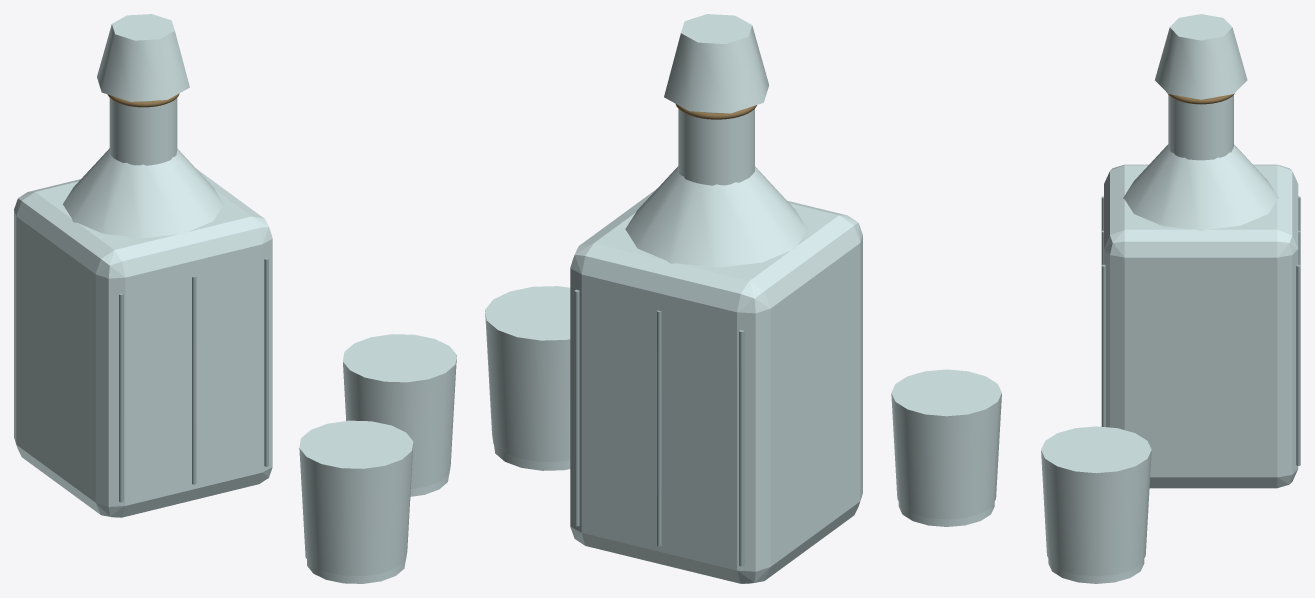
File: rear-decanter.glb
The picture shows the model from 3 angles, left to right: view 1: azimuth 30°, elevation 25°; view 2: azimuth 150°, elevation 25°; view 3: azimuth 270°, elevation 25°; orthographic projection. The views are drawn at different scales.
Parts seen in each view (by area): view 1: part::rear-decanter/square-crystal-body-001, part::rear-decanter/tumbler-glass-002, part::rear-decanter/tumbler-glass-001, part::rear-decanter/decanter-shoulder-001, part::rear-decanter/faceted-stopper-001, part::rear-decanter/long-glass-neck-001, part::rear-decanter/vertical-cut-flute-002, part::rear-decanter/vertical-cut-flute-006, part::rear-decanter/vertical-cut-flute-004, part::rear-decanter/heavy-tumbler-foot-002; view 2: part::rear-decanter/square-crystal-body-001, part::rear-decanter/tumbler-glass-001, part::rear-decanter/decanter-shoulder-001, part::rear-decanter/faceted-stopper-001, part::rear-decanter/long-glass-neck-001, part::rear-decanter/vertical-cut-flute-005, part::rear-decanter/vertical-cut-flute-001, part::rear-decanter/vertical-cut-flute-003, part::rear-decanter/heavy-tumbler-foot-001, part::rear-decanter/neck-brass-collar-001; view 3: part::rear-decanter/square-crystal-body-001, part::rear-decanter/tumbler-glass-002, part::rear-decanter/tumbler-glass-001, part::rear-decanter/decanter-shoulder-001, part::rear-decanter/faceted-stopper-001, part::rear-decanter/long-glass-neck-001, part::rear-decanter/vertical-cut-flute-005, part::rear-decanter/vertical-cut-flute-006, part::rear-decanter/heavy-tumbler-foot-001, part::rear-decanter/heavy-tumbler-foot-002.
Part boxes in pixels (x1,y1,x2,y2): part::rear-decanter/square-crystal-body-001: [14, 169, 272, 517]; part::rear-decanter/tumbler-glass-002: [299, 420, 413, 576]; part::rear-decanter/tumbler-glass-001: [343, 334, 456, 488]; part::rear-decanter/decanter-shoulder-001: [63, 148, 223, 238]; part::rear-decanter/faceted-stopper-001: [97, 14, 189, 101]; part::rear-decanter/long-glass-neck-001: [109, 98, 177, 165]; part::rear-decanter/vertical-cut-flute-002: [119, 293, 123, 502]; part::rear-decanter/vertical-cut-flute-006: [264, 257, 268, 466]; part::rear-decanter/vertical-cut-flute-004: [192, 276, 196, 484]; part::rear-decanter/heavy-tumbler-foot-002: [307, 560, 405, 583]; part::rear-decanter/square-crystal-body-001: [570, 189, 862, 583]; part::rear-decanter/tumbler-glass-001: [485, 286, 570, 461]; part::rear-decanter/decanter-shoulder-001: [625, 166, 807, 267]; part::rear-decanter/faceted-stopper-001: [664, 14, 769, 113]; part::rear-decanter/long-glass-neck-001: [678, 109, 754, 185]; part::rear-decanter/vertical-cut-flute-005: [574, 289, 579, 526]; part::rear-decanter/vertical-cut-flute-001: [739, 330, 744, 566]; part::rear-decanter/vertical-cut-flute-003: [656, 310, 661, 546]; part::rear-decanter/heavy-tumbler-foot-001: [494, 445, 570, 470]; part::rear-decanter/neck-brass-collar-001: [675, 103, 756, 119]; part::rear-decanter/square-crystal-body-001: [1104, 164, 1298, 488]; part::rear-decanter/tumbler-glass-002: [891, 369, 1001, 519]; part::rear-decanter/tumbler-glass-001: [1041, 426, 1151, 576]; part::rear-decanter/decanter-shoulder-001: [1123, 144, 1278, 231]; part::rear-decanter/faceted-stopper-001: [1155, 14, 1247, 99]; part::rear-decanter/long-glass-neck-001: [1168, 95, 1233, 160]; part::rear-decanter/vertical-cut-flute-005: [1296, 264, 1300, 465]; part::rear-decanter/vertical-cut-flute-006: [1101, 264, 1105, 426]; part::rear-decanter/heavy-tumbler-foot-001: [1048, 559, 1144, 583]; part::rear-decanter/heavy-tumbler-foot-002: [898, 502, 994, 526].
Bounding box in the file's own units: 0.252 × 0.3255 × 0.2735.
